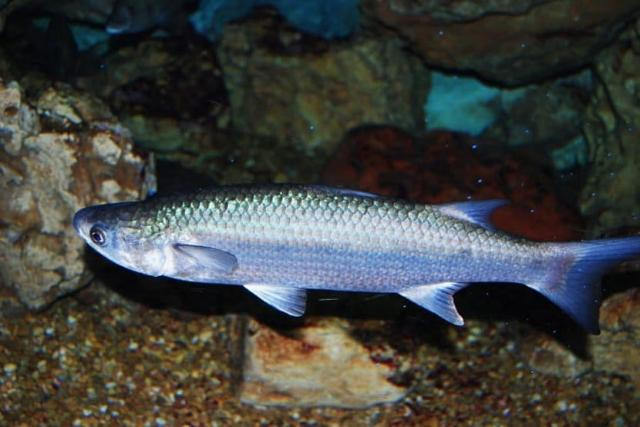Mulut: (69, 200, 107, 252)
Sirip Anal: (392, 274, 481, 332)
Sirip Dada: (171, 225, 251, 281)
Sirip Ekor: (548, 224, 640, 346)
Sirip Perut: (243, 276, 313, 328)
Sirip Punggung: (310, 165, 512, 238)
